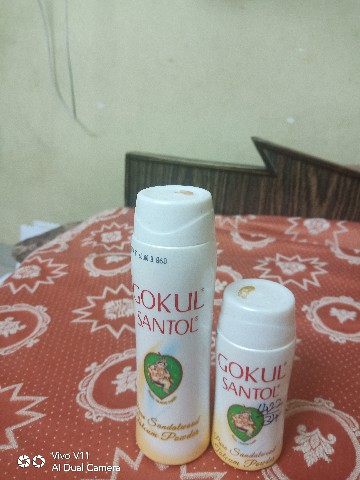gokulsantol big: (120, 178, 215, 467)
gokulsantol small: (213, 273, 302, 470)
